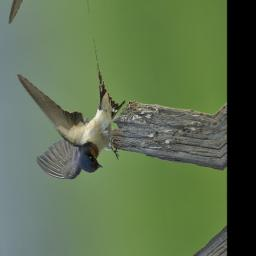Swallow: (12, 31, 134, 193)
